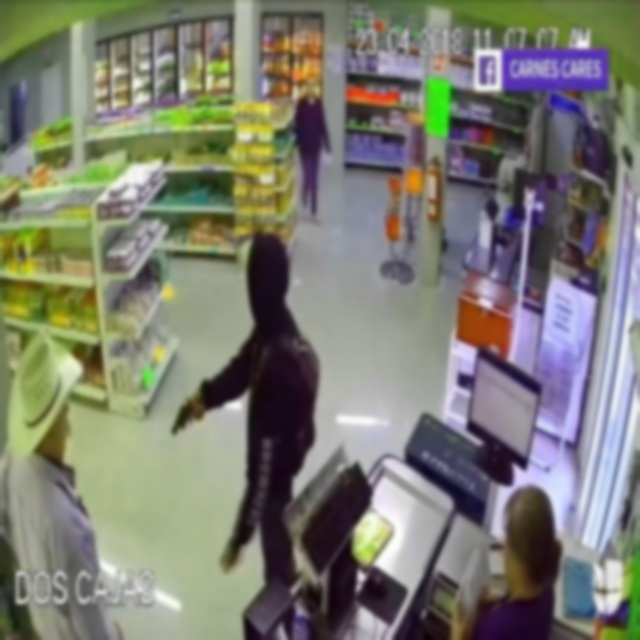gun: (170, 381, 198, 457)
